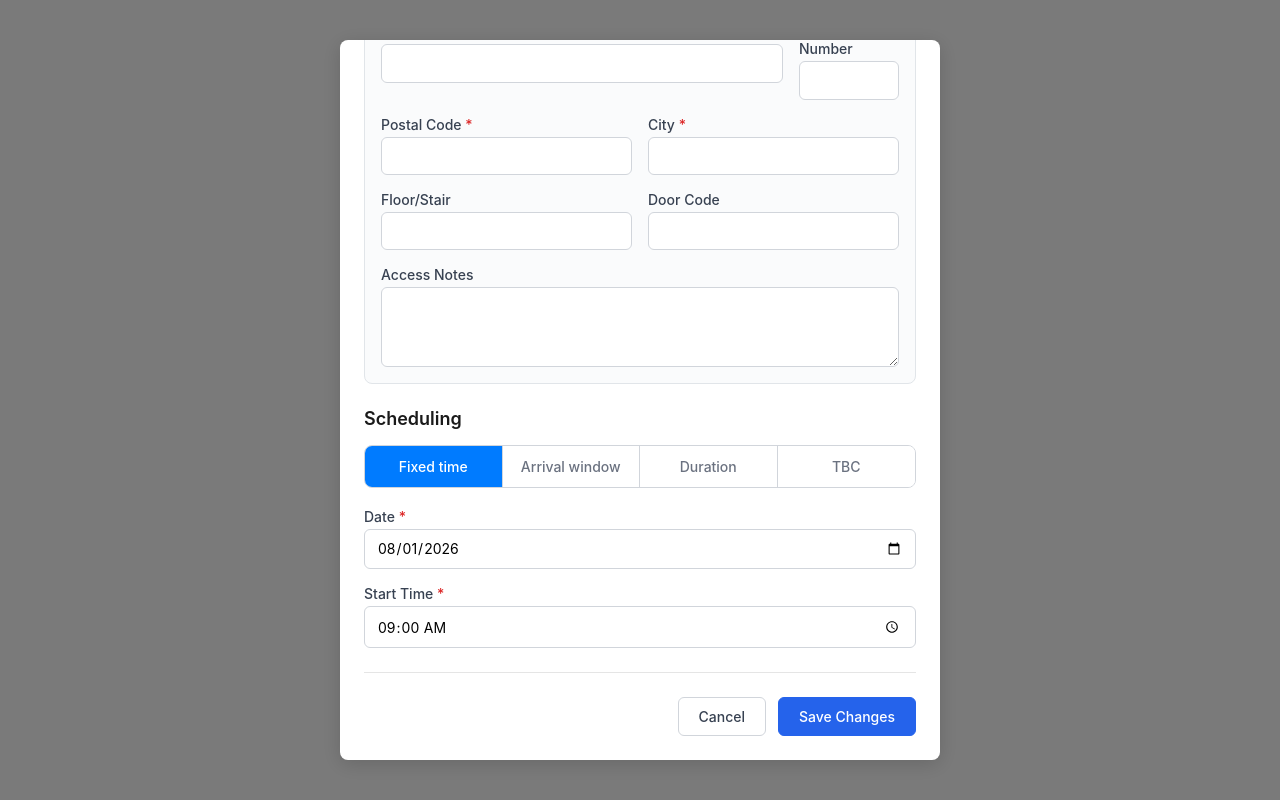
JobEditModal — schedule type › selecting Arrival window re-enables the end-time field with the latest-arrival label
(page scrolled)
Click the radio button labelled "Arrival window".
click(571, 466)  # box [502,446,640,487]
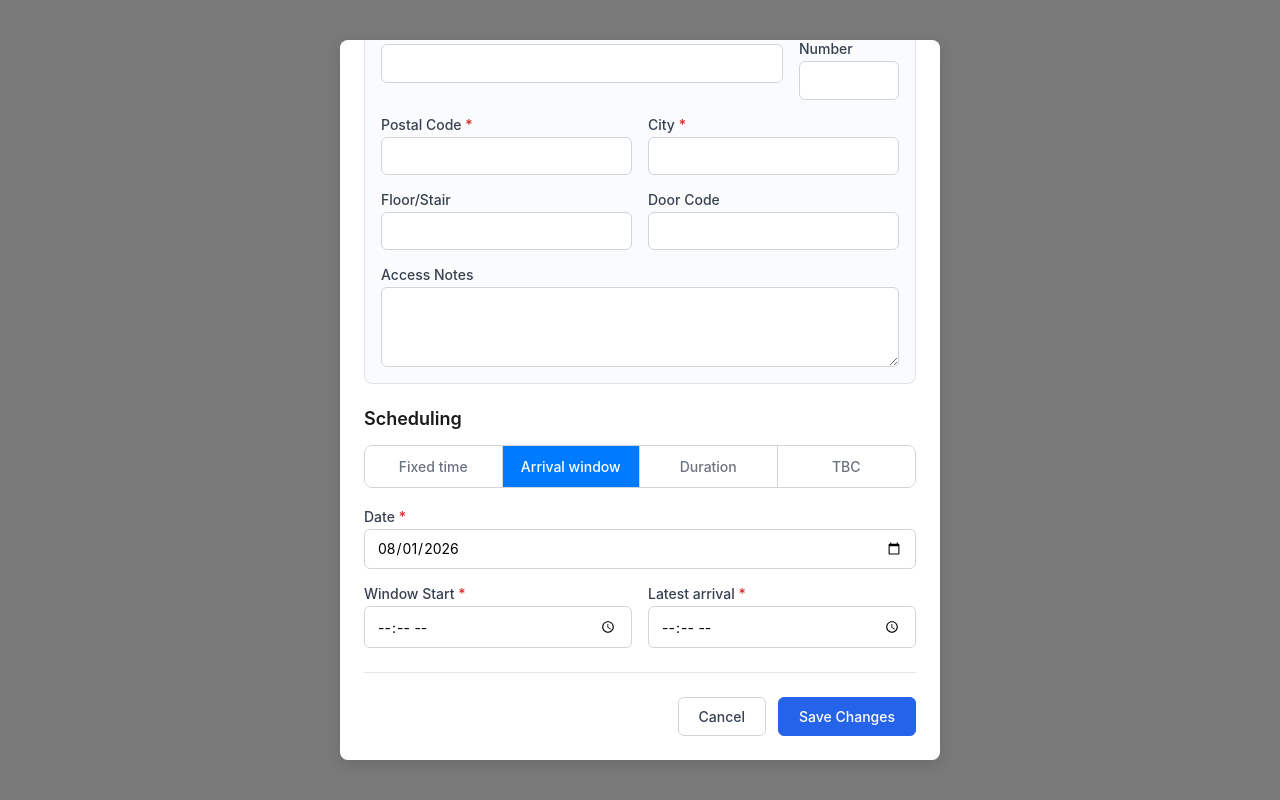
Expected: the text "Latest arrival" is shown, [648,585,735,602]
